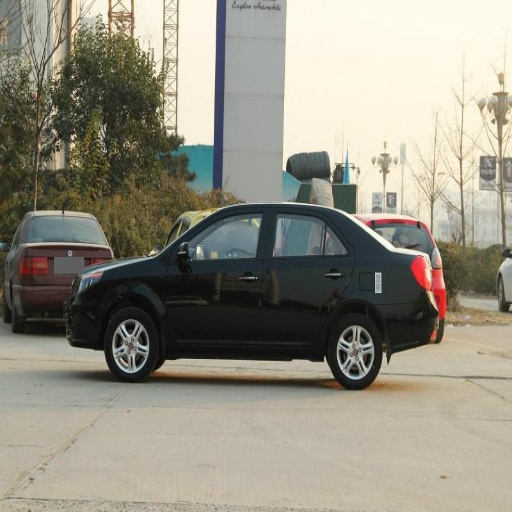back_bumper: (386, 309, 441, 351)
back_glass: (376, 222, 426, 248)
back_left_door: (264, 209, 354, 344)
front_left_door: (167, 210, 269, 341)
